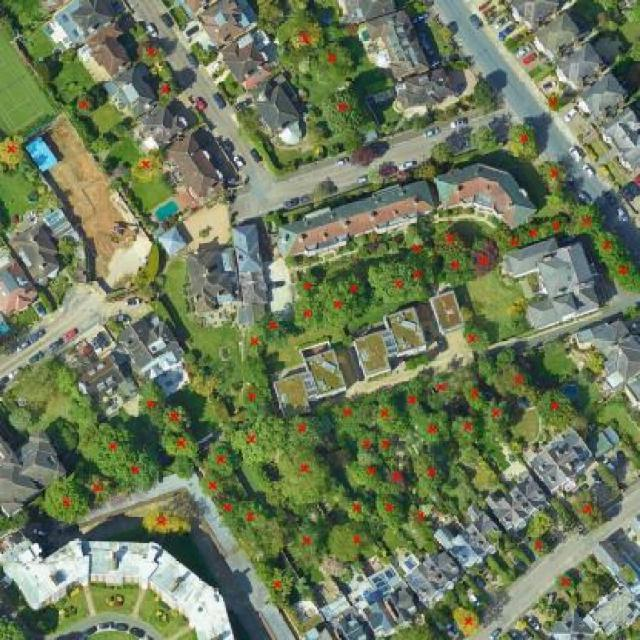tree: (275, 446, 337, 509), (82, 419, 139, 479), (228, 413, 287, 469), (41, 475, 96, 527), (114, 444, 163, 496), (364, 257, 410, 308), (325, 519, 377, 564), (320, 88, 366, 137), (311, 39, 355, 84), (282, 411, 330, 452), (534, 386, 575, 431), (134, 377, 168, 429), (137, 507, 194, 538), (469, 235, 505, 281), (327, 399, 368, 439), (318, 287, 356, 330), (291, 518, 329, 561), (568, 489, 605, 533), (334, 269, 371, 312), (128, 146, 168, 185), (413, 408, 450, 450), (47, 413, 84, 455), (504, 121, 541, 162), (232, 495, 268, 537), (158, 429, 200, 465), (250, 0, 289, 38), (259, 563, 296, 603), (605, 253, 640, 295), (566, 203, 605, 240), (496, 361, 535, 398), (203, 440, 239, 480), (288, 295, 324, 334), (372, 492, 408, 531), (370, 395, 404, 436), (425, 370, 458, 412), (534, 158, 571, 195), (437, 252, 474, 289), (468, 77, 504, 115), (404, 258, 436, 300), (412, 453, 445, 493), (237, 380, 271, 418), (288, 22, 326, 55), (398, 376, 427, 419), (448, 414, 481, 451), (464, 124, 502, 156), (500, 298, 531, 337), (231, 105, 263, 142), (481, 396, 513, 433), (407, 499, 435, 541), (387, 621, 448, 640), (158, 402, 192, 436), (257, 309, 288, 346), (591, 228, 625, 261), (353, 455, 384, 491), (459, 322, 492, 355), (450, 603, 481, 637), (48, 363, 79, 397), (402, 223, 430, 260), (285, 0, 322, 28), (0, 132, 28, 169), (434, 227, 469, 256), (240, 323, 268, 359), (473, 353, 501, 389), (187, 372, 222, 399), (214, 492, 240, 528), (498, 225, 527, 257), (152, 77, 181, 109), (241, 355, 270, 386), (137, 40, 168, 69), (292, 268, 320, 300), (0, 505, 33, 532), (461, 380, 488, 412), (410, 159, 444, 183), (577, 577, 606, 605), (343, 495, 372, 523), (5, 406, 33, 435), (0, 615, 33, 639), (72, 90, 100, 118), (428, 141, 457, 168), (195, 471, 224, 498), (87, 474, 110, 506), (374, 433, 400, 461), (592, 10, 620, 35), (545, 212, 569, 241), (346, 144, 375, 168), (383, 468, 409, 494), (529, 512, 556, 536), (354, 429, 378, 456), (54, 233, 77, 261), (492, 345, 517, 369), (572, 366, 597, 389), (584, 351, 607, 375), (524, 221, 545, 247), (525, 537, 551, 558), (107, 121, 133, 142), (553, 572, 575, 596), (625, 32, 640, 63), (544, 93, 564, 115), (623, 0, 640, 25), (364, 168, 384, 188), (500, 35, 518, 54), (435, 25, 453, 44), (195, 46, 213, 63), (449, 58, 469, 73), (410, 116, 427, 133), (282, 254, 298, 271), (400, 117, 414, 134), (223, 82, 237, 95)
